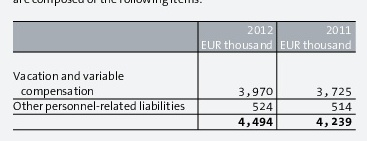table: (0, 0, 367, 141)
